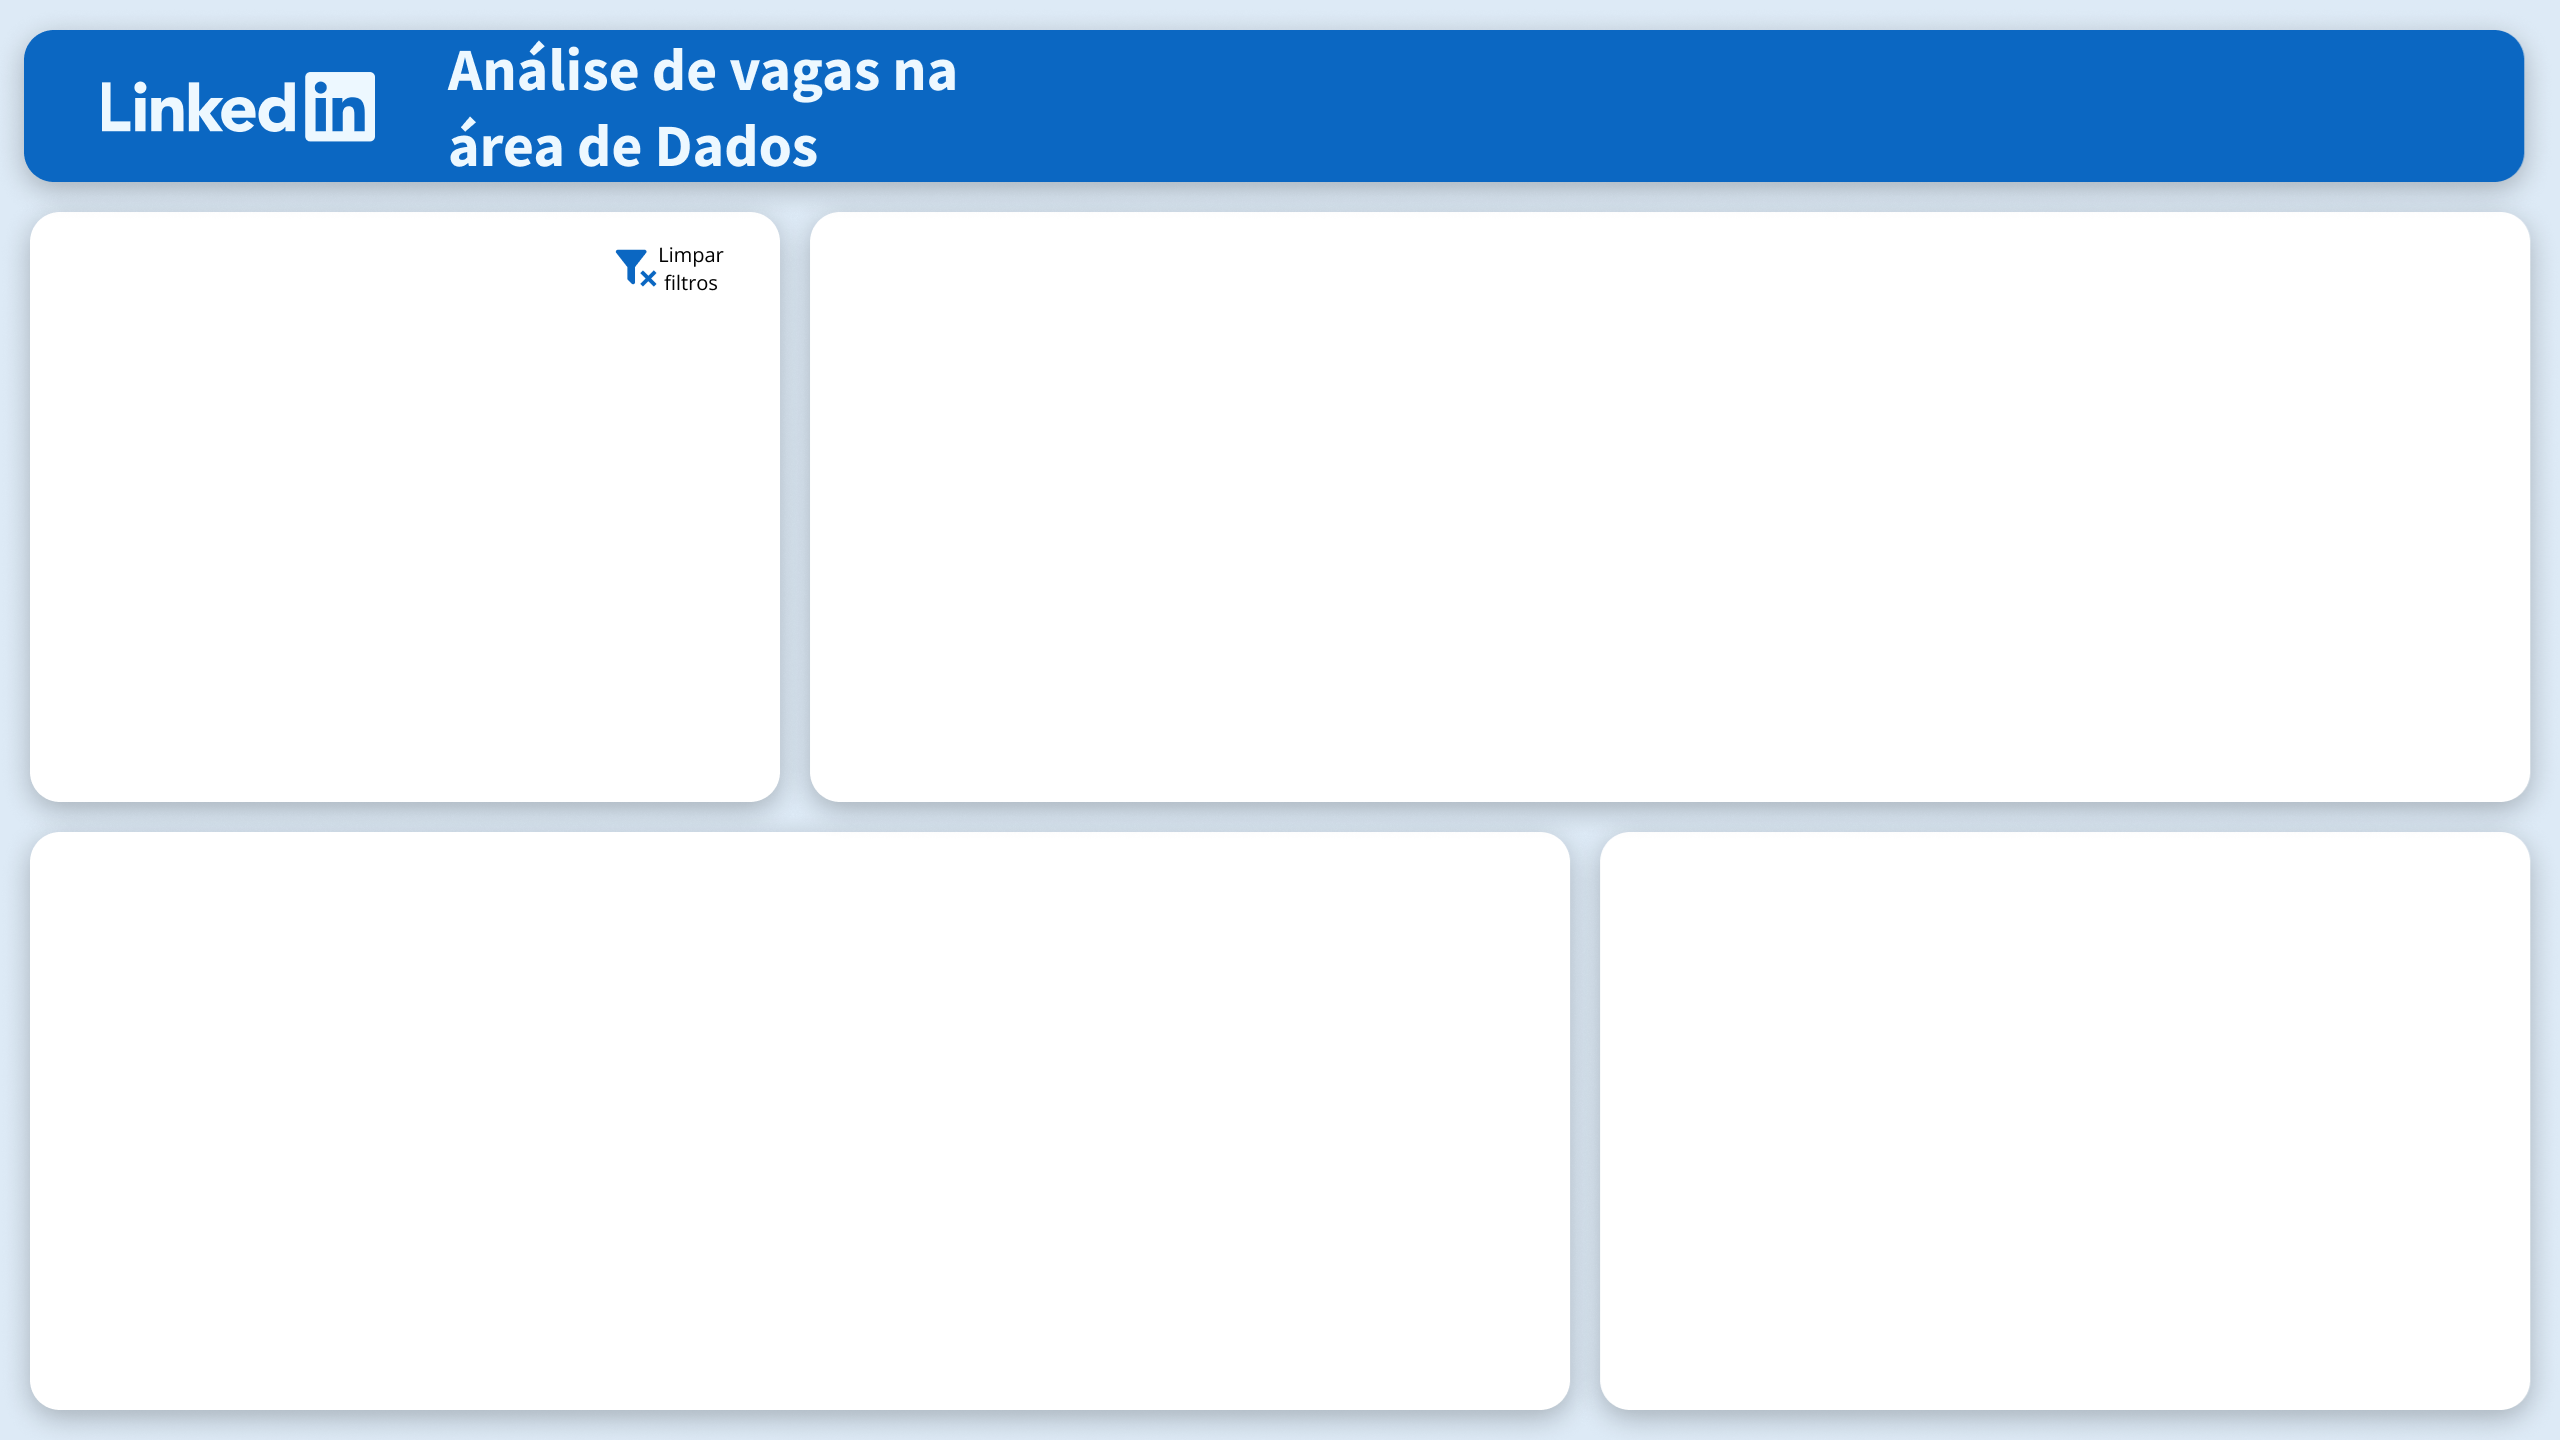

Layout of this report page (visuals, bound fields, positions):
{"tool":"powerbi","page":{"name":"Page 1","canvas":[1280,720],"ordinal":0},"visuals":[{"type":"donutChart","fields":{"Category":["df_jobs_classified.classified_job_title"],"Y":["CountNonNull(df_jobs_classified.classified_job_title)"]},"box":[0,0,555.9,369.1],"z":0},{"type":"barChart","fields":{"Category":["df_skills.skill"],"Y":["CountNonNull(df_skills.skill)"]},"box":[603,50.6,556.4,340.4],"z":1},{"type":"slicer","fields":{"Values":["df_jobs_classified.classified_job_title"]},"box":[0,379.3,409.5,340.4],"z":2}]}

Visuals, with their boxes in screenshot pixels (x1, y1, x2, y2), scaled from the page's 1280x720 canvas onto the 2560x1440 screenshot:
donutChart - df_jobs_classified.classified_job_title x CountNonNull(df_jobs_classified.classified_job_title): l=0, t=0, r=1112, b=738
barChart - df_skills.skill x CountNonNull(df_skills.skill): l=1206, t=101, r=2319, b=782
slicer - df_jobs_classified.classified_job_title: l=0, t=759, r=819, b=1439
